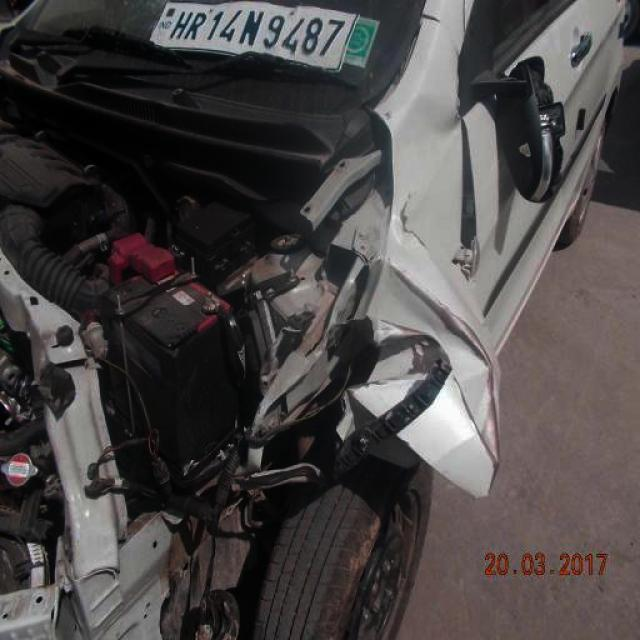car damage: (0, 103, 501, 640), (454, 118, 484, 289)
